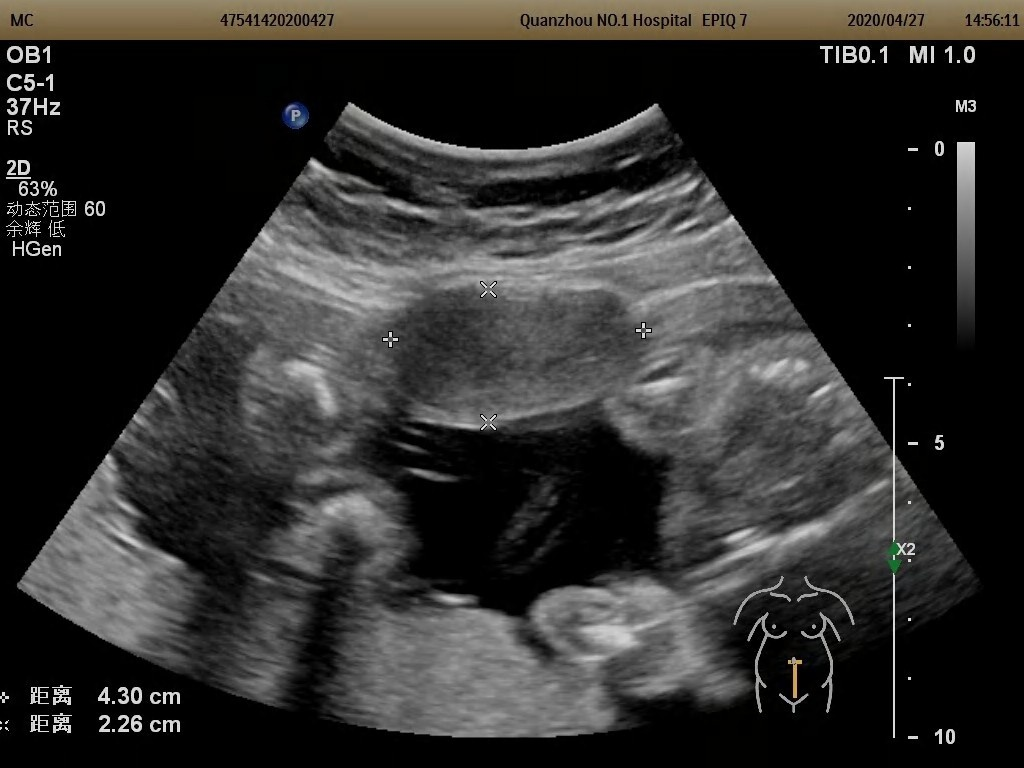肌瘤: (393, 291, 626, 413)
